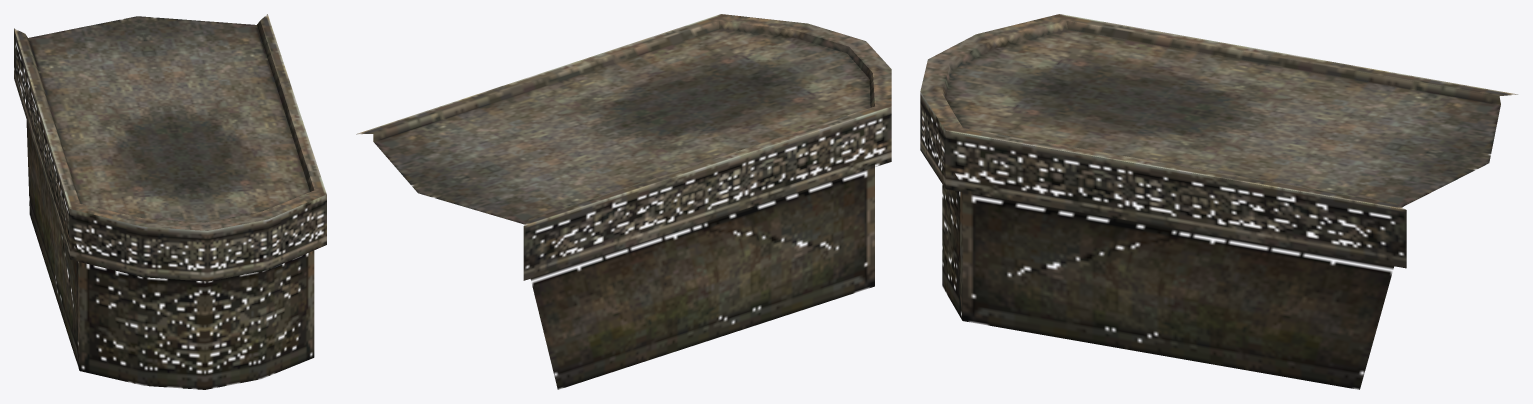
File: miniboss_02-3.glb
The picture shows the model from 3 angles, left to right: view 1: azimuth 30°, elevation 25°; view 2: azimuth 150°, elevation 25°; view 3: azimuth 270°, elevation 25°; orthographic projection. The views are drawn at different scales.
Visible parts, largest first — view 1: miniboss_02-3; view 2: miniboss_02-3; view 3: miniboss_02-3.
Boxes of the visible parts, left/top/right/bottom form: miniboss_02-3: left=14, top=14, right=326, bottom=389; miniboss_02-3: left=356, top=14, right=891, bottom=389; miniboss_02-3: left=920, top=14, right=1517, bottom=389.
Size of the model in its own units: 13.6 by 6.25 by 17.54.
1 material, 1 textured.
